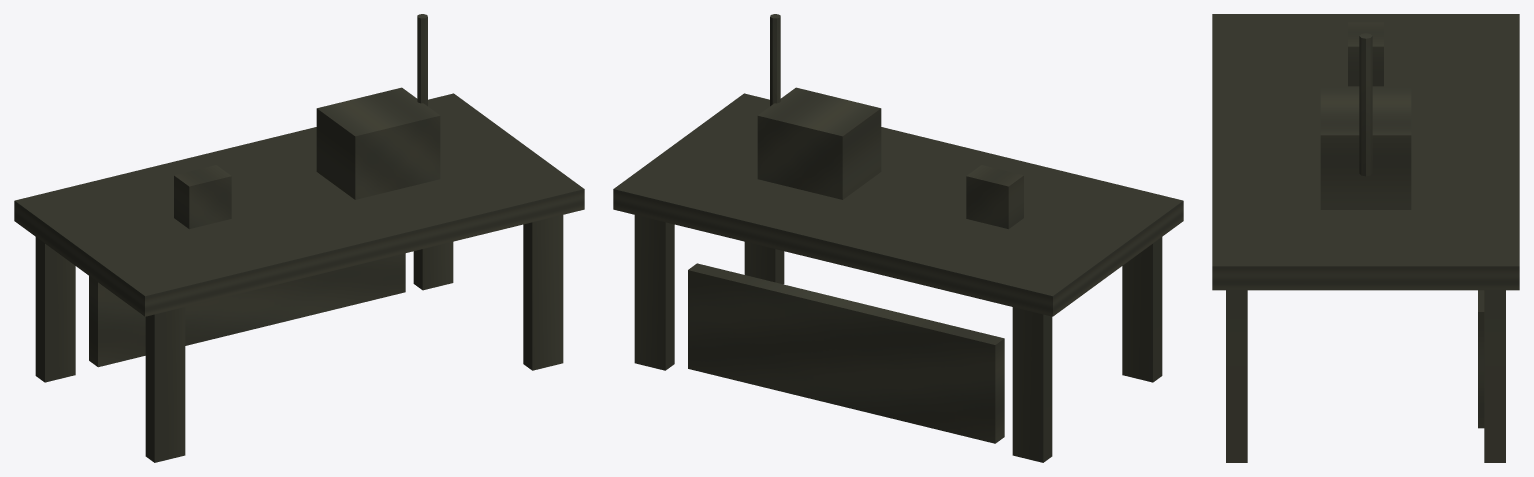
Rendered from prop_shipping_manifest_desk_a.glb.
The picture shows the model from 3 angles, left to right: view 1: azimuth 30°, elevation 25°; view 2: azimuth 150°, elevation 25°; view 3: azimuth 270°, elevation 25°; orthographic projection. The views are drawn at different scales.
Parts seen in each view (by area): view 1: prop_shipping_manifest_desk_a; view 2: prop_shipping_manifest_desk_a; view 3: prop_shipping_manifest_desk_a.
Part boxes in pixels (box(x1,y1,x2,y2)): prop_shipping_manifest_desk_a: box(14, 14, 584, 462); prop_shipping_manifest_desk_a: box(613, 14, 1183, 462); prop_shipping_manifest_desk_a: box(1212, 14, 1519, 462).
Bounding box in the file's own units: 1.65 × 1.16 × 0.85.
Materials: 1 (1 with a texture image).
